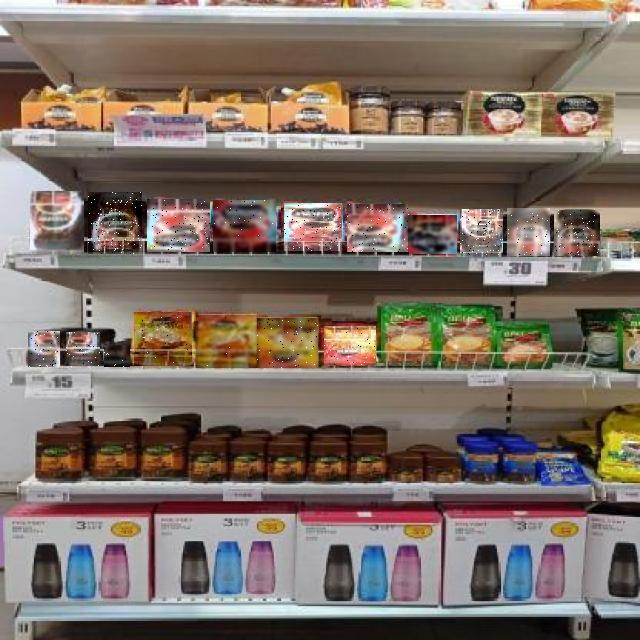Coffee: (31, 192, 85, 254), (89, 192, 143, 254), (147, 199, 210, 252), (196, 315, 258, 368), (213, 200, 276, 252), (134, 312, 192, 366), (257, 318, 318, 368), (348, 205, 410, 253), (284, 203, 342, 251), (554, 210, 600, 256), (507, 209, 550, 257), (324, 326, 376, 365), (460, 210, 503, 256), (409, 215, 457, 254), (66, 332, 100, 366), (28, 331, 60, 367), (104, 345, 130, 367)
